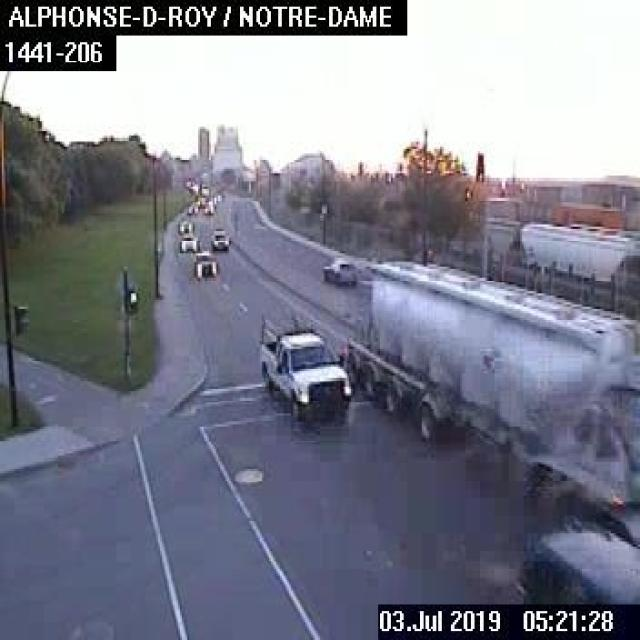vehicle: (337, 255, 638, 526), (252, 306, 353, 427), (510, 515, 638, 602), (320, 256, 356, 282), (189, 249, 219, 275), (208, 226, 228, 252), (178, 232, 198, 254), (175, 217, 192, 233), (184, 202, 199, 215), (202, 199, 213, 214)
